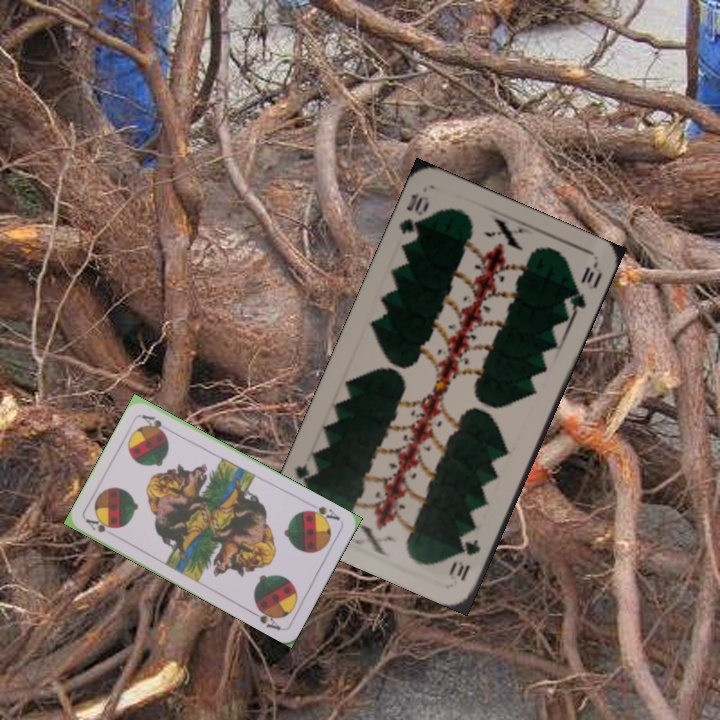G10: (394, 188, 432, 246), (446, 535, 483, 584)
SA: (302, 502, 343, 526), (81, 514, 118, 535)
